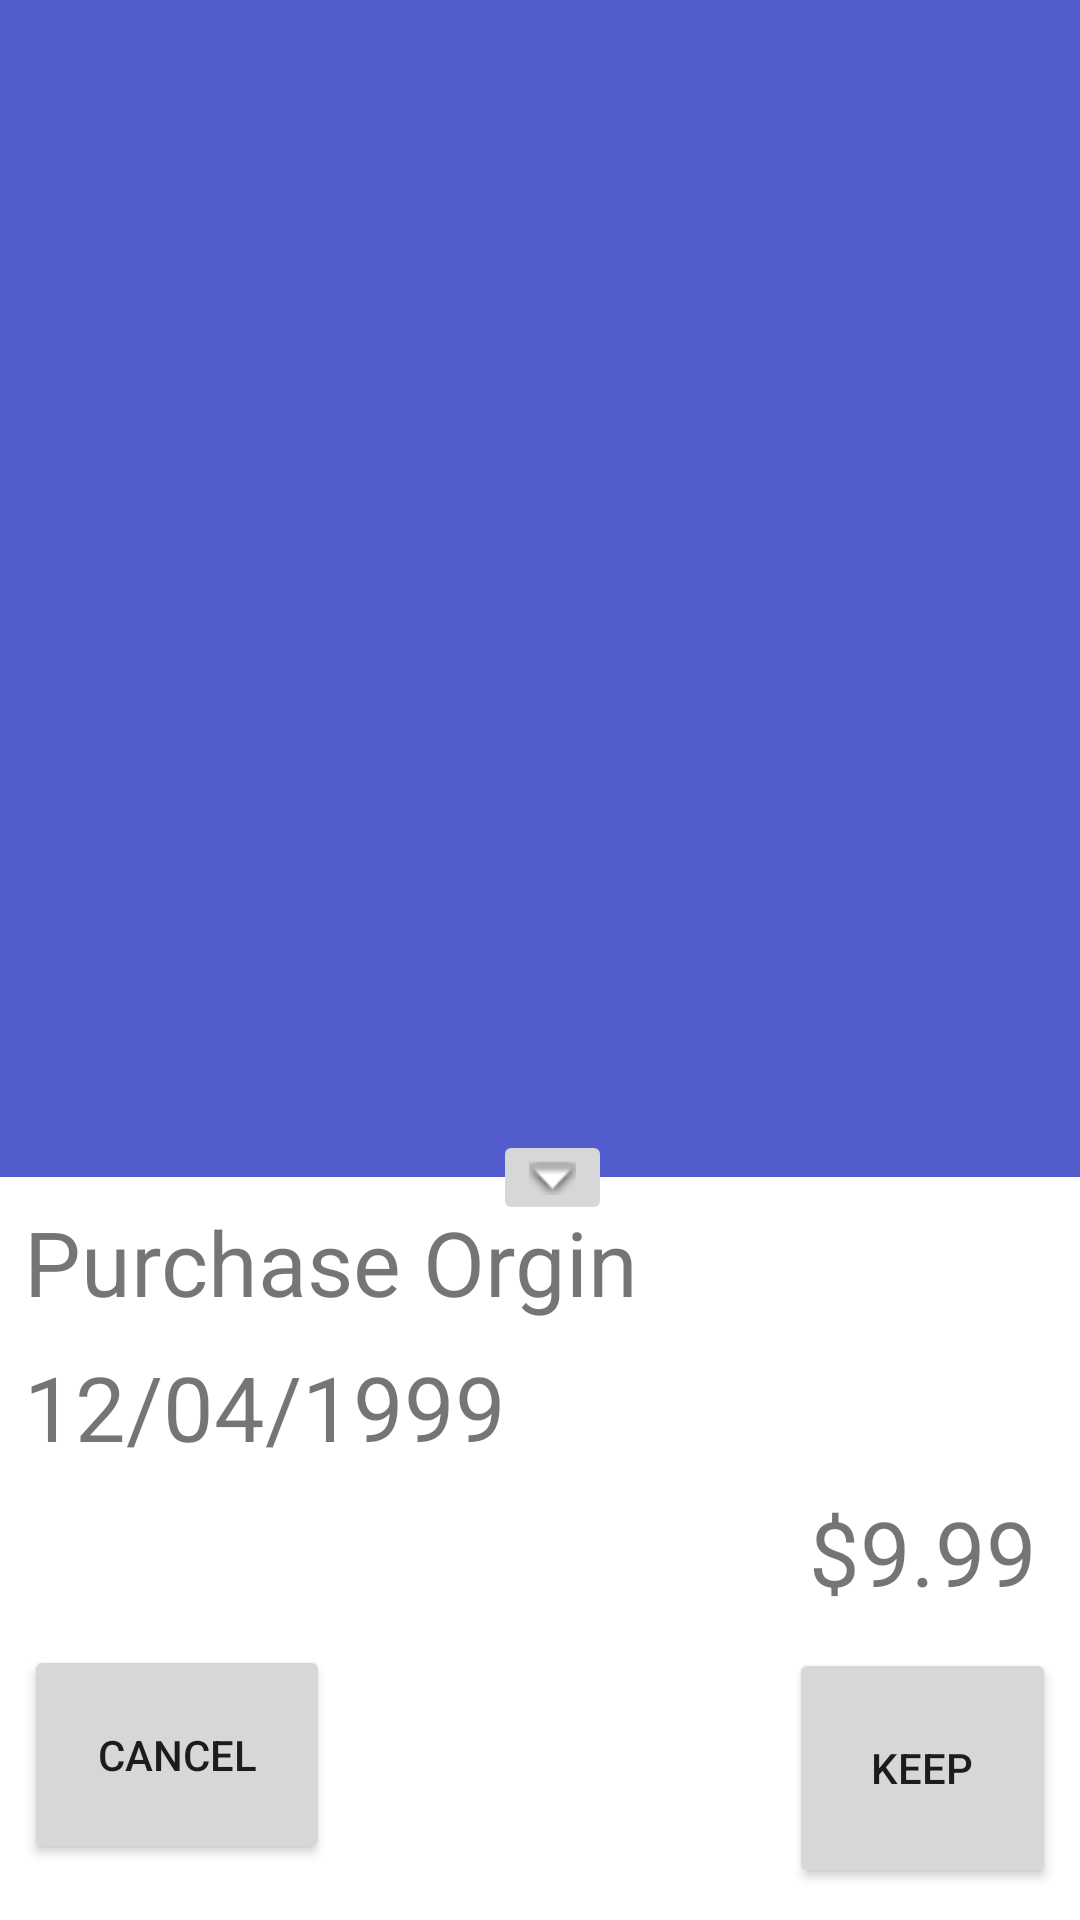

Icons on this 1080 x 1920 Android screen, each with the point to tap as (x,y):
arrow down float: (552,1177)
